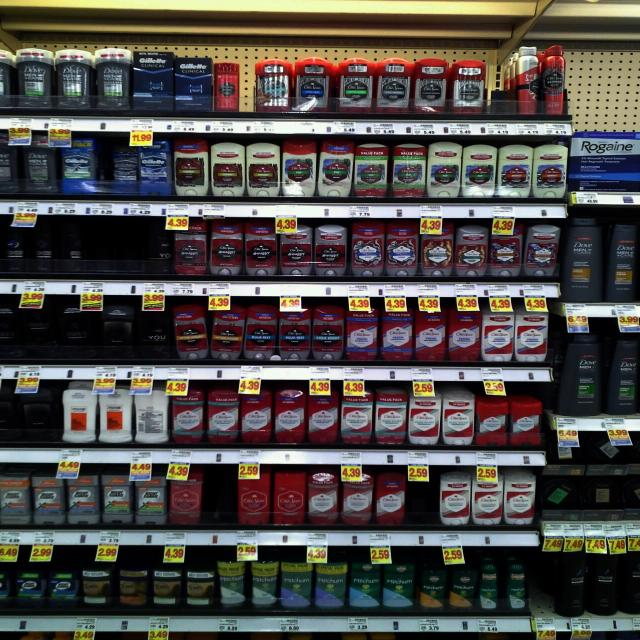empty_space: (573, 61, 639, 135), (97, 226, 151, 270), (211, 476, 231, 520), (414, 482, 434, 524)
